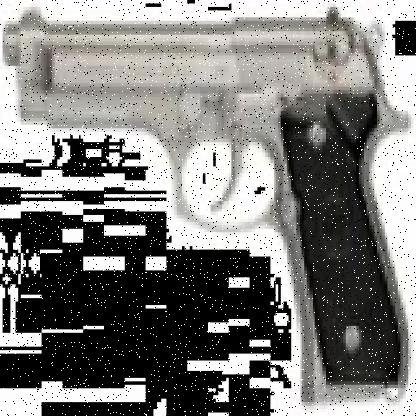pistol: (3, 10, 409, 402)
